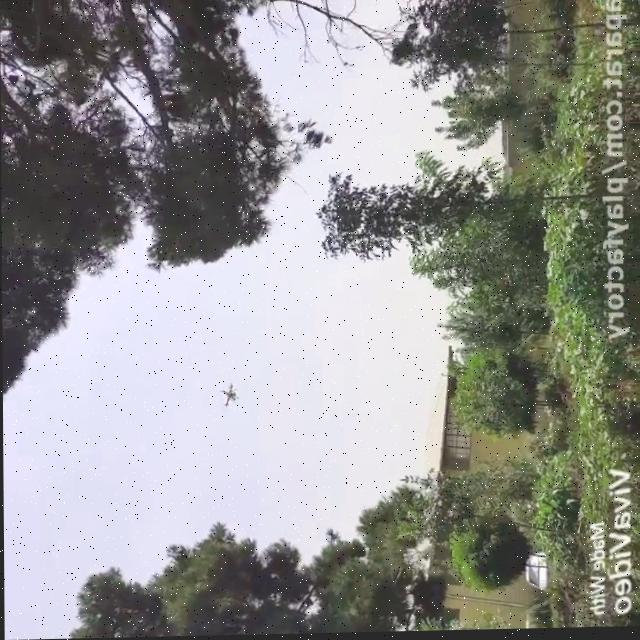drone: (214, 381, 238, 409)
